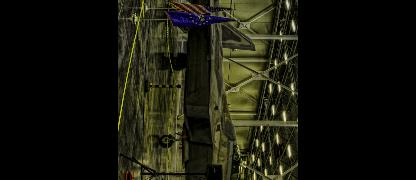F18: (159, 0, 269, 179)
